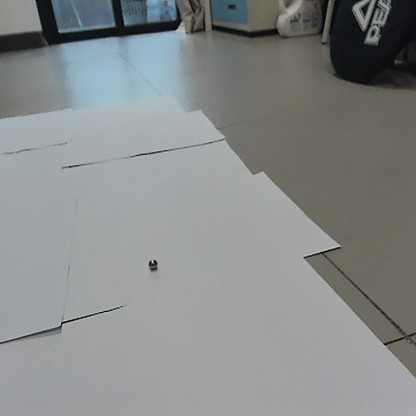ironball: (148, 256, 158, 269)
